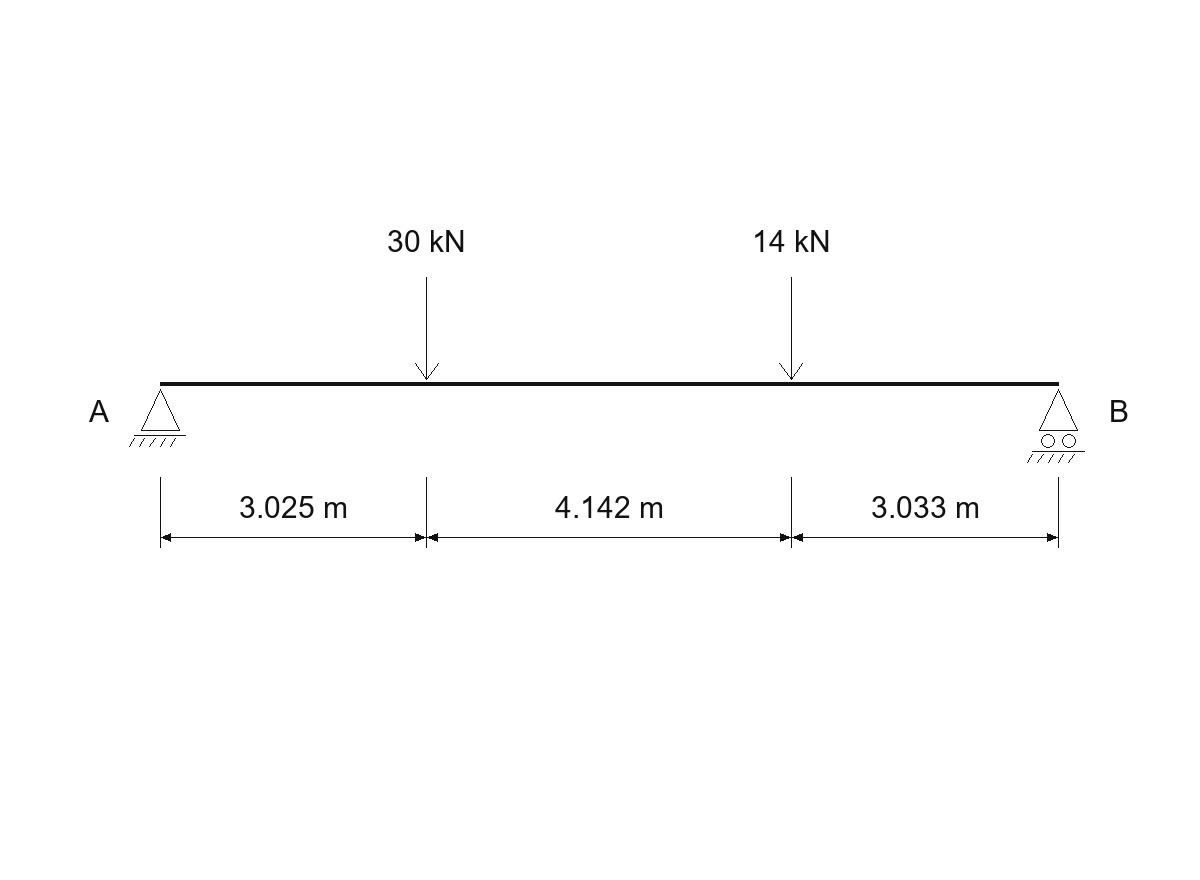pin_support: (129, 389, 186, 447)
point_load: (415, 277, 439, 380), (779, 277, 803, 380)
roller_support: (1027, 389, 1085, 463)
